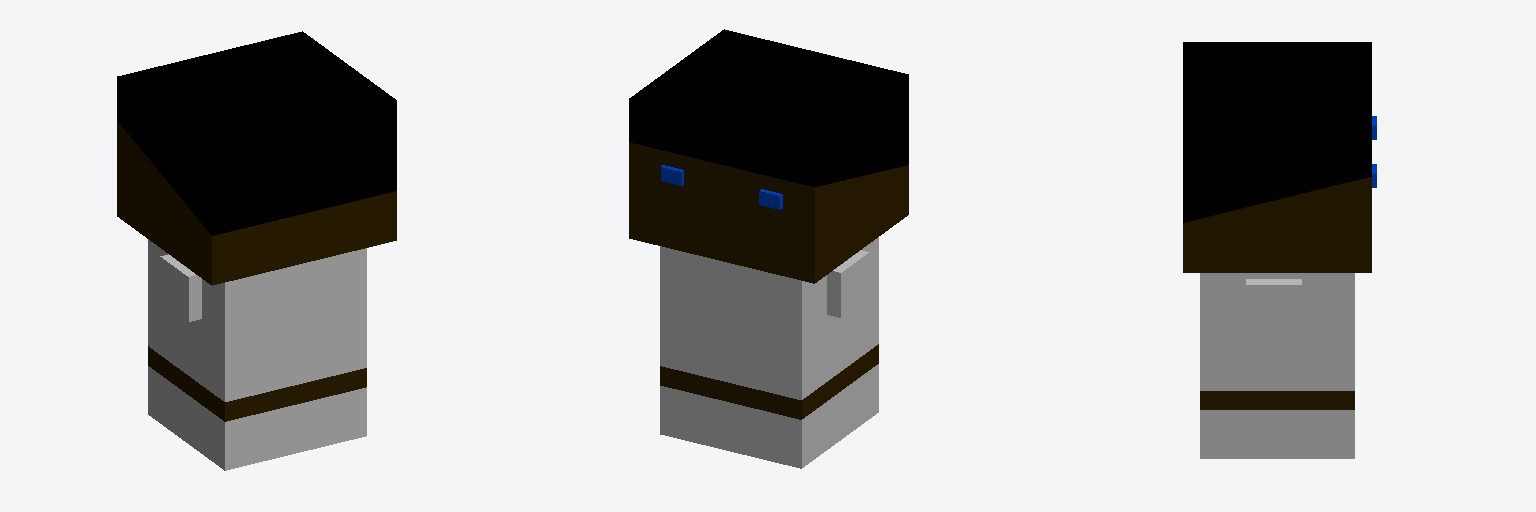
File: body_head.obj
The picture shows the model from 3 angles: view 1: azimuth 30°, elevation 25°; view 2: azimuth 150°, elevation 25°; view 3: azimuth 270°, elevation 25°; orthographic projection.
Parts seen in each view (by area): view 1: Cube_Cube.001; view 2: Cube_Cube.001; view 3: Cube_Cube.001.
Part boxes in pixels (bbox=[...]): Cube_Cube.001: bbox=[117, 31, 396, 470]; Cube_Cube.001: bbox=[629, 29, 908, 468]; Cube_Cube.001: bbox=[1183, 42, 1376, 458].
Size of the model in its own units: 0.5474 by 0.9494 by 0.4976.